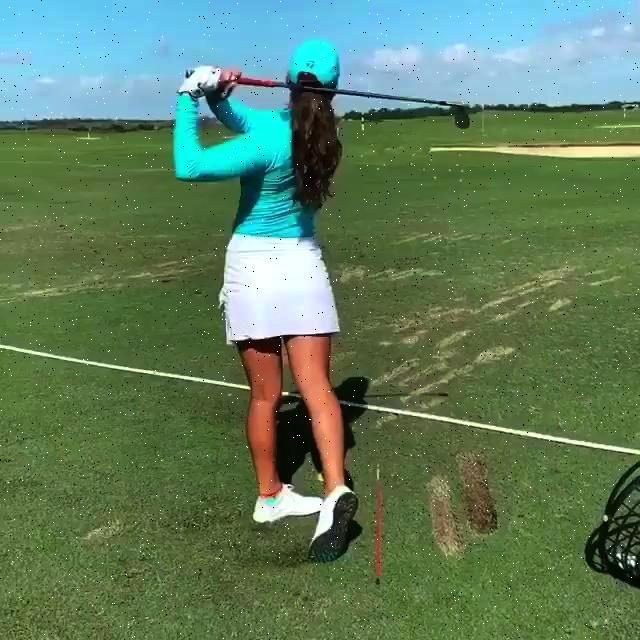ClubHandle: (188, 70, 473, 130)
ClubHead: (450, 103, 472, 129)
